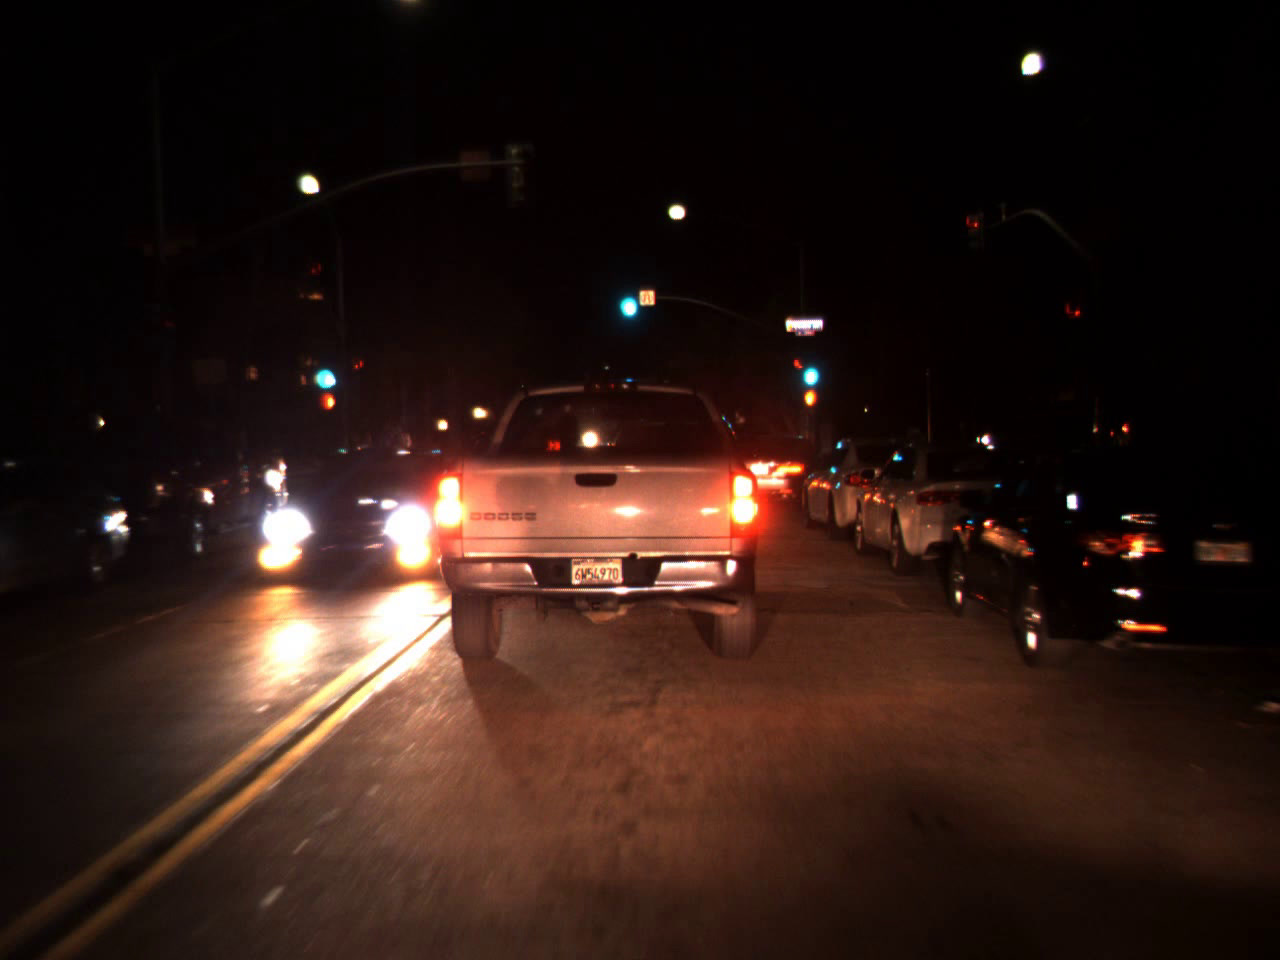go: (308, 345, 338, 396), (613, 271, 640, 325), (797, 342, 822, 393)
